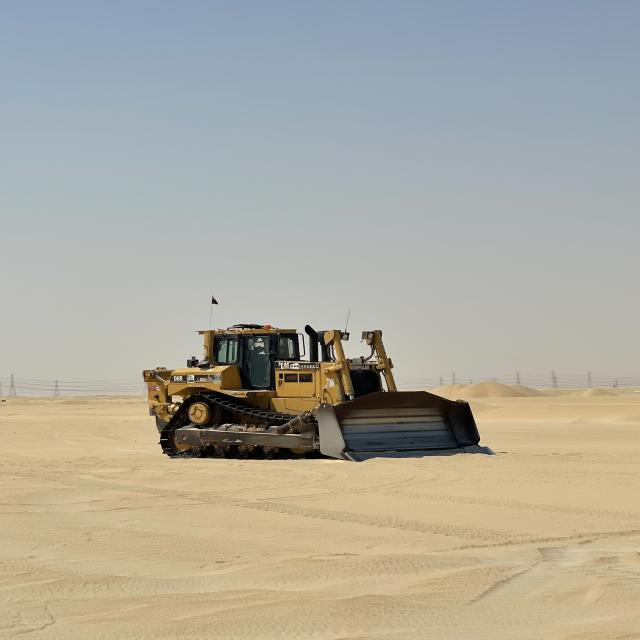buldozerpayloadergrader: (140, 315, 482, 466)
